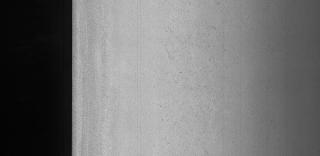silk spot: (158, 5, 240, 120)
